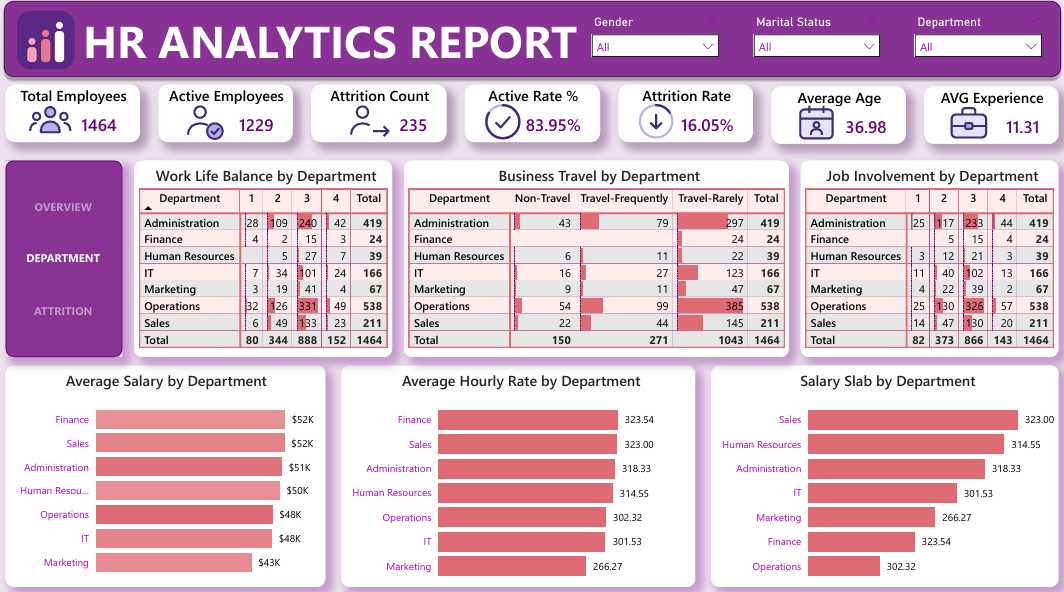

Layout of this report page (visuals, bound fields, positions):
{"tool":"powerbi","page":{"name":"DEPARTMENT","canvas":[1280,720],"ordinal":1},"visuals":[{"type":"shape","box":[0,0,1280,104.8],"z":0},{"type":"cardVisual","title":"Total Employees","fields":{"Data":["Measures (2).Total Employee"]},"box":[9.1,107,161,69],"z":0,"group":"g1"},{"type":"cardVisual","title":"Active Rate %","fields":{"Data":["Measures (2).Active Rate"]},"box":[559.5,107,161.6,69],"z":1000,"group":"g1"},{"type":"group","id":"g1","title":"Group 1","box":[9.1,107,1260.6,71.3],"z":2000},{"type":"cardVisual","title":"Attrition Count","fields":{"Data":["Measures (2).Inactive Employee"]},"box":[375.5,107,161.6,69],"z":2000,"group":"g1"},{"type":"cardVisual","title":"Active Employees","fields":{"Data":["Measures (2).Active Employee"]},"box":[192.6,107,160.4,69],"z":3000,"group":"g1"},{"type":"image","box":[35.3,120.7,54.7,55.8],"z":3000},{"type":"cardVisual","title":"Attrition Rate","fields":{"Data":["Measures (2).Attrition Rate"]},"box":[743.5,107,160.4,69],"z":4000,"group":"g1"},{"type":"image","box":[219.8,123,54.7,55.8],"z":4000},{"type":"cardVisual","title":"Average Age","fields":{"Data":["Measures (2).Average Age"]},"box":[926.4,109.3,160.4,69],"z":5000,"group":"g1"},{"type":"image","box":[952.6,123.8,54.3,55.9],"z":5000},{"type":"cardVisual","title":"AVG Experience","fields":{"Data":["Measures (2).Average Experience"]},"box":[1109.3,109.3,160.4,69],"z":6000,"group":"g1"},{"type":"image","box":[416.8,123,54.7,55.8],"z":6000},{"type":"image","box":[577.4,123,54.7,55.8],"z":7000},{"type":"image","box":[1135.4,123,54.7,55.8],"z":8000},{"type":"barChart","title":"Average Salary by Department","fields":{"Category":["HR_Analytics-4.Department"],"Y":["Measures (2).AVG Income"]},"box":[9.1,443,382.6,265.3],"z":9000},{"type":"shape","box":[8.8,197.5,140,235],"z":10000},{"type":"shape","box":[19.4,220.9,117.3,62.6],"z":11000},{"type":"shape","box":[19.4,282.4,117.3,62.6],"z":12000},{"type":"shape","box":[19.4,346.2,117.3,62.6],"z":13000},{"type":"pivotTable","title":"Job Involvement by Department","fields":{"Rows":["HR_Analytics-4.Department"],"Columns":["HR_Analytics-4.JobInvolvement"],"Values":["CountNonNull(HR_Analytics-4.JobInvolvement)"]},"box":[961.1,198.1,308.6,234.6],"z":15000},{"type":"clusteredBarChart","title":"Salary Slab by Department","fields":{"Category":["HR_Analytics-4.Department"],"Y":["Measures (2).Attrition Rate"]},"box":[854.1,443,415.7,265.3],"z":16000},{"type":"clusteredBarChart","title":"Average Hourly Rate by Department","fields":{"Category":["HR_Analytics-4.Department"],"Y":["Measures (2).AVG Hourly Rate"]},"box":[411.1,443,423.6,265.3],"z":17000},{"type":"pivotTable","title":"Business Travel by Department","fields":{"Rows":["HR_Analytics-4.Department"],"Columns":["HR_Analytics-4.BusinessTravel"],"Values":["Measures (2).Employee Count"]},"box":[486.5,198.1,460.1,234.6],"z":18000},{"type":"pivotTable","title":"Work Life Balance by Department","fields":{"Rows":["HR_Analytics-4.Department"],"Columns":["HR_Analytics-4.WorkLifeBalance"],"Values":["CountNonNull(HR_Analytics-4.WorkLifeBalance)"]},"box":[163.3,198.1,308.6,234.6],"z":21000},{"type":"image","box":[760.7,123,54.7,55.8],"z":22000},{"type":"shape","box":[78.6,0,637.7,104.8],"z":22001},{"type":"slicer","fields":{"Values":["HR_Analytics-4.Gender"]},"box":[701.5,19.4,172,69.5],"z":22002},{"type":"image","box":[0,5.7,113.9,96.8],"z":22003},{"type":"slicer","fields":{"Values":["HR_Analytics-4.Gender"]},"box":[894.5,19.4,172,69.5],"z":22004},{"type":"slicer","fields":{"Values":["HR_Analytics-4.Gender"]},"box":[1087.5,19.4,172,69.5],"z":22005}]}

Visuals, with their boxes in screenshot pixels (x1, y1, x2, y2), scaled from the page's 1280x720 canvas onto the 1064x592 screenshot:
shape: x1=0, y1=0, x2=1063, y2=86
"Total Employees" cardVisual: x1=8, y1=88, x2=141, y2=145
"Active Rate %" cardVisual: x1=465, y1=88, x2=599, y2=145
"Group 1" group: x1=8, y1=88, x2=1055, y2=147
"Attrition Count" cardVisual: x1=312, y1=88, x2=446, y2=145
"Active Employees" cardVisual: x1=160, y1=88, x2=293, y2=145
image: x1=29, y1=99, x2=75, y2=145
"Attrition Rate" cardVisual: x1=618, y1=88, x2=751, y2=145
image: x1=183, y1=101, x2=228, y2=147
"Average Age" cardVisual: x1=770, y1=90, x2=903, y2=147
image: x1=792, y1=102, x2=837, y2=148
"AVG Experience" cardVisual: x1=922, y1=90, x2=1055, y2=147
image: x1=346, y1=101, x2=392, y2=147
image: x1=480, y1=101, x2=525, y2=147
image: x1=944, y1=101, x2=989, y2=147
"Average Salary by Department" barChart: x1=8, y1=364, x2=326, y2=582
shape: x1=7, y1=162, x2=124, y2=356
shape: x1=16, y1=182, x2=114, y2=233
shape: x1=16, y1=232, x2=114, y2=284
shape: x1=16, y1=285, x2=114, y2=336
"Job Involvement by Department" pivotTable: x1=799, y1=163, x2=1055, y2=356
"Salary Slab by Department" clusteredBarChart: x1=710, y1=364, x2=1056, y2=582
"Average Hourly Rate by Department" clusteredBarChart: x1=342, y1=364, x2=694, y2=582
"Business Travel by Department" pivotTable: x1=404, y1=163, x2=787, y2=356
"Work Life Balance by Department" pivotTable: x1=136, y1=163, x2=392, y2=356
image: x1=632, y1=101, x2=678, y2=147
shape: x1=65, y1=0, x2=595, y2=86
slicer - HR_Analytics-4.Gender: x1=583, y1=16, x2=726, y2=73
image: x1=0, y1=5, x2=95, y2=84
slicer - HR_Analytics-4.Gender: x1=744, y1=16, x2=887, y2=73
slicer - HR_Analytics-4.Gender: x1=904, y1=16, x2=1047, y2=73
